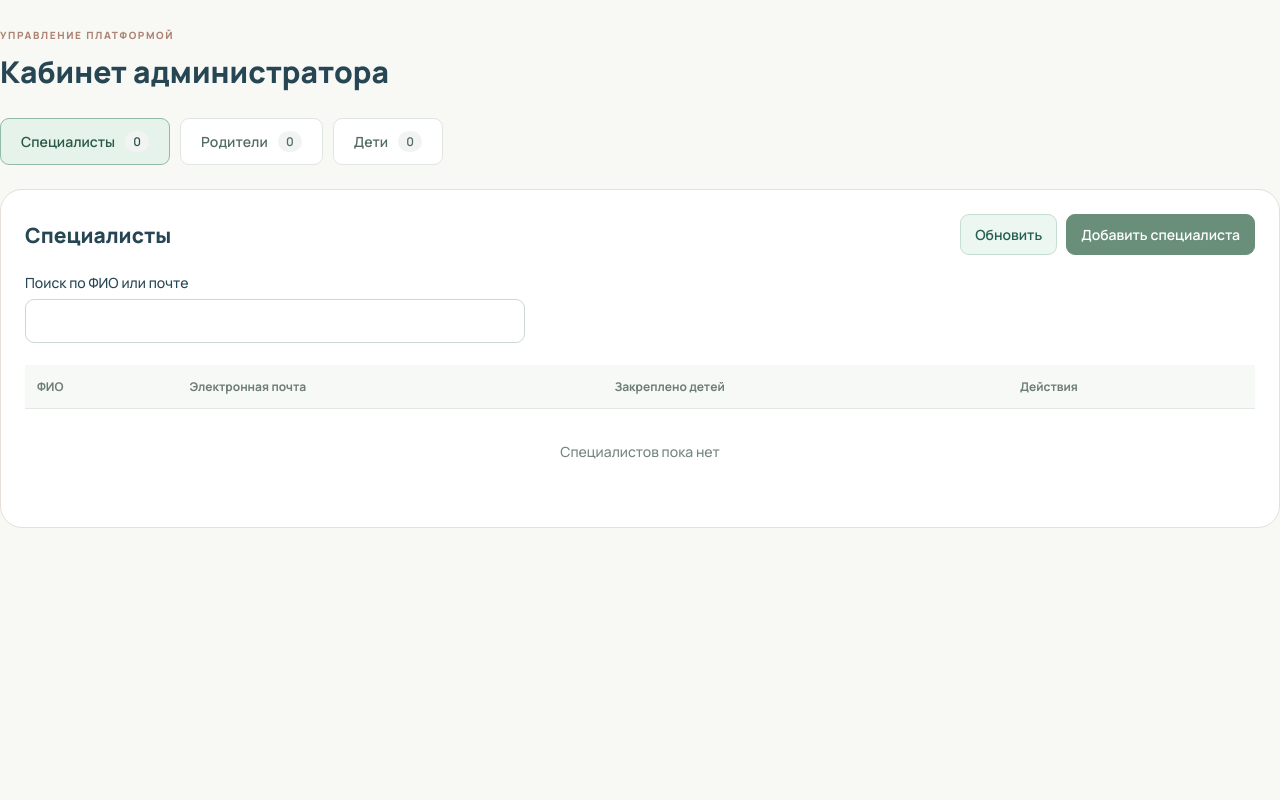
admin creates parent in a separate form
The width and height of the screenshot is (1280, 800).
expect the button "Обновить" is enabled: met, box [960,214,1057,255]
Click the button "Родители 0" at coordinates (251, 142), box [180,118,323,165]
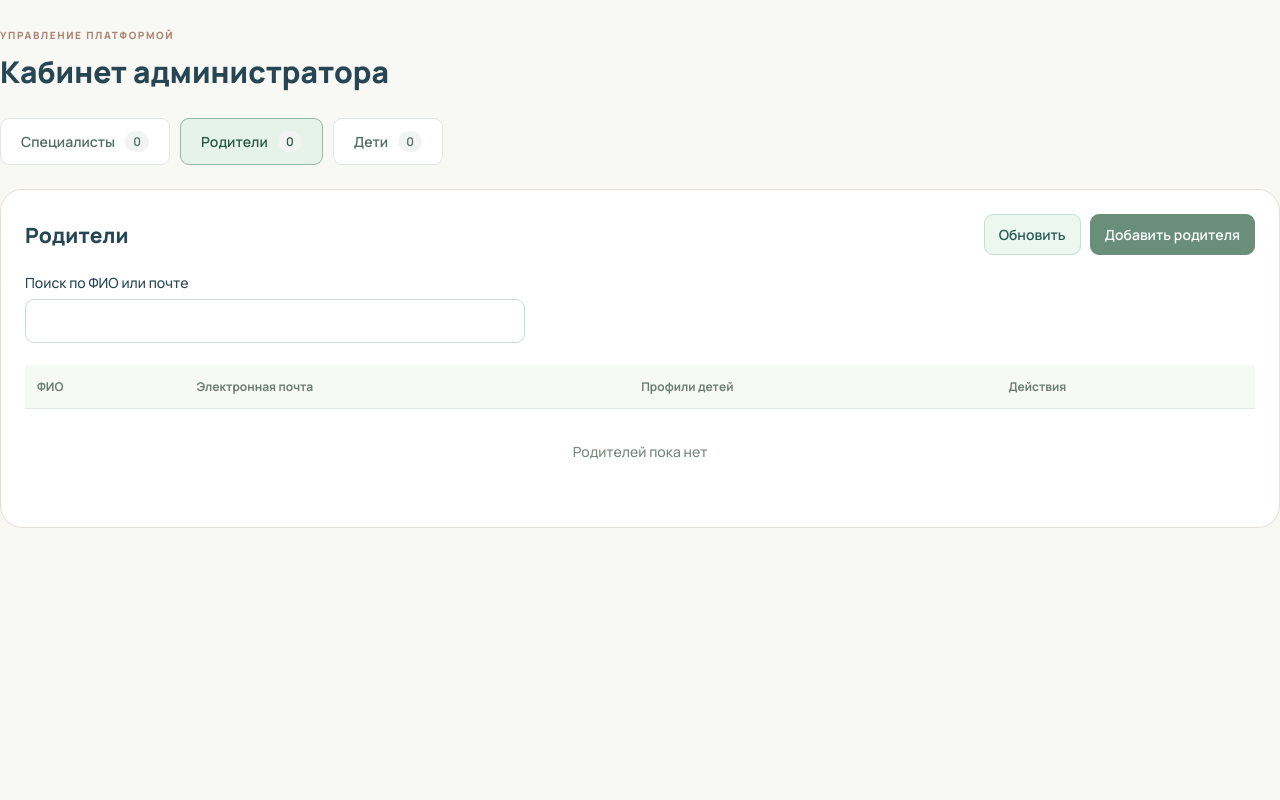
Click the button "Добавить родителя" at coordinates (1172, 234), box [1090,214,1255,255]
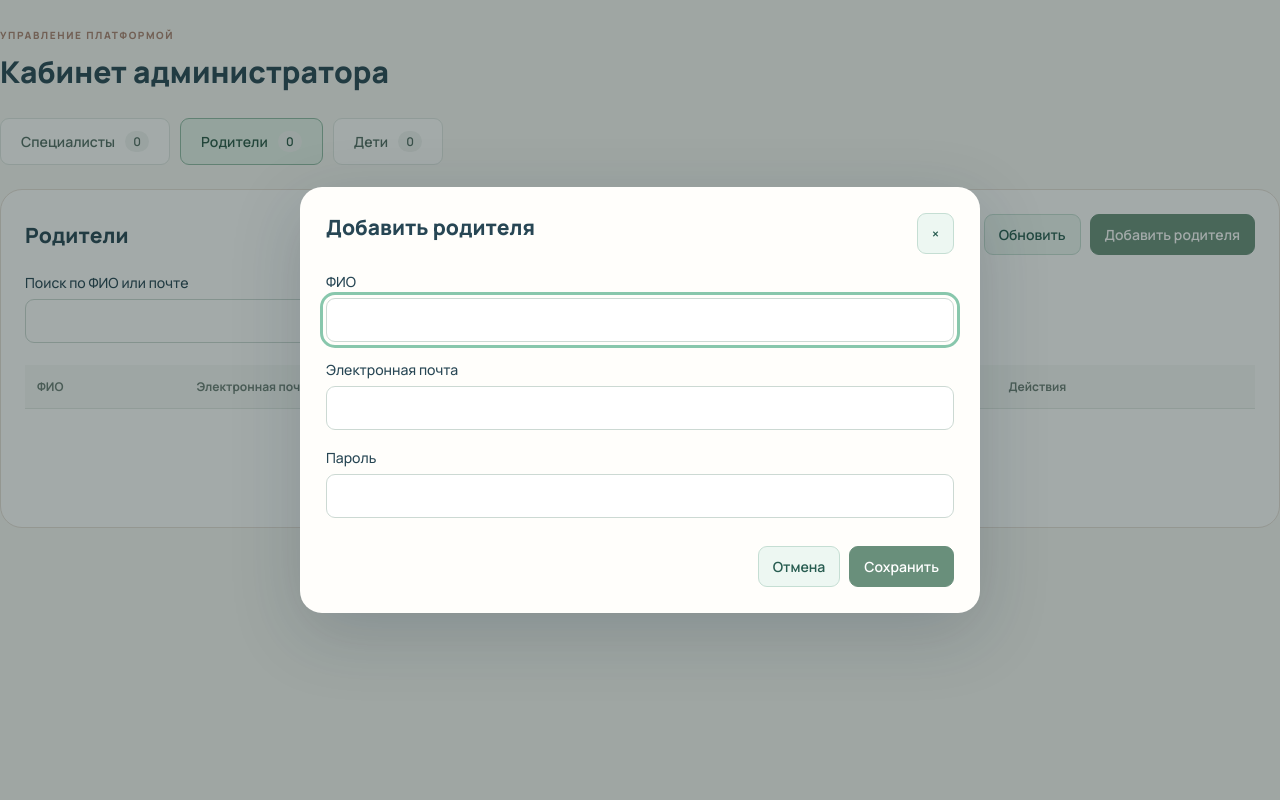
Type "Проверочный Пользователь" into the field labelled "ФИО" at coordinates (640, 320), box [326,298,954,342]
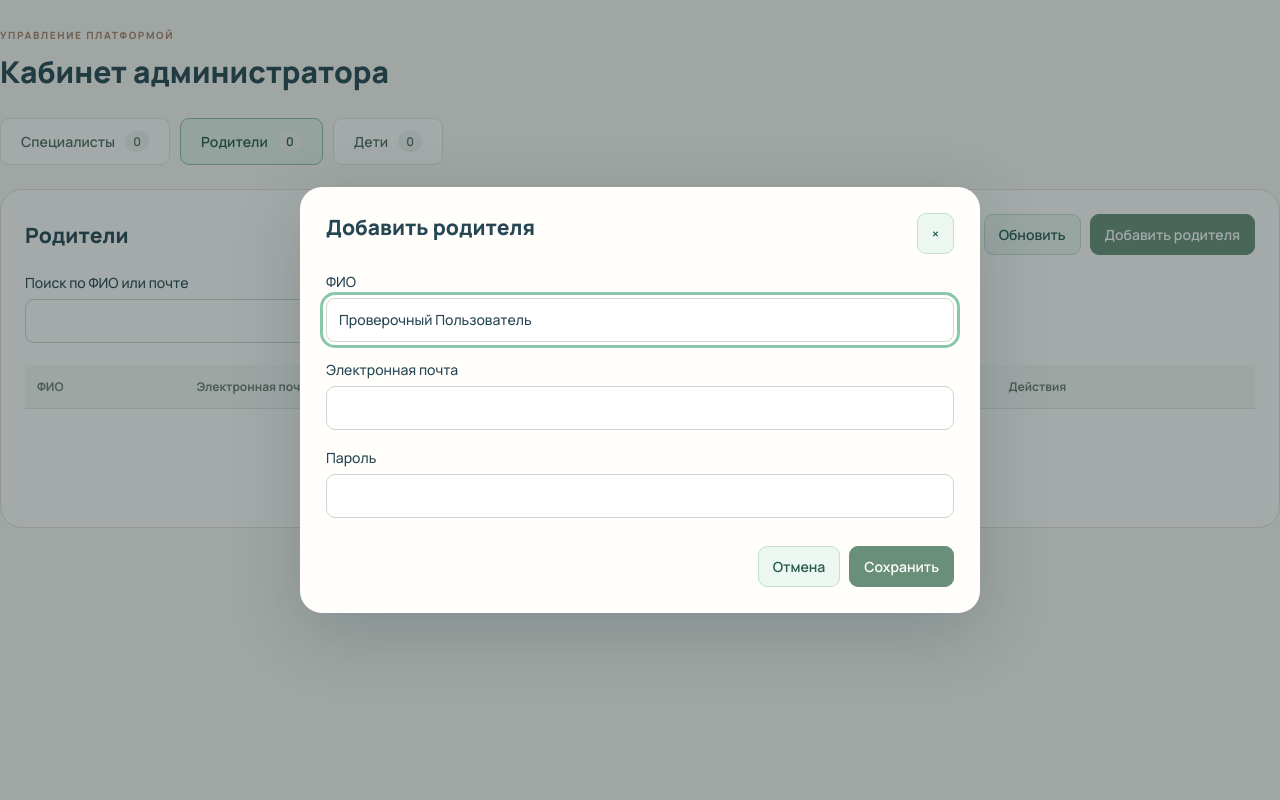
Type "new@test.invalid" into the field labelled "Электронная почта" at coordinates (640, 408), box [326,386,954,430]
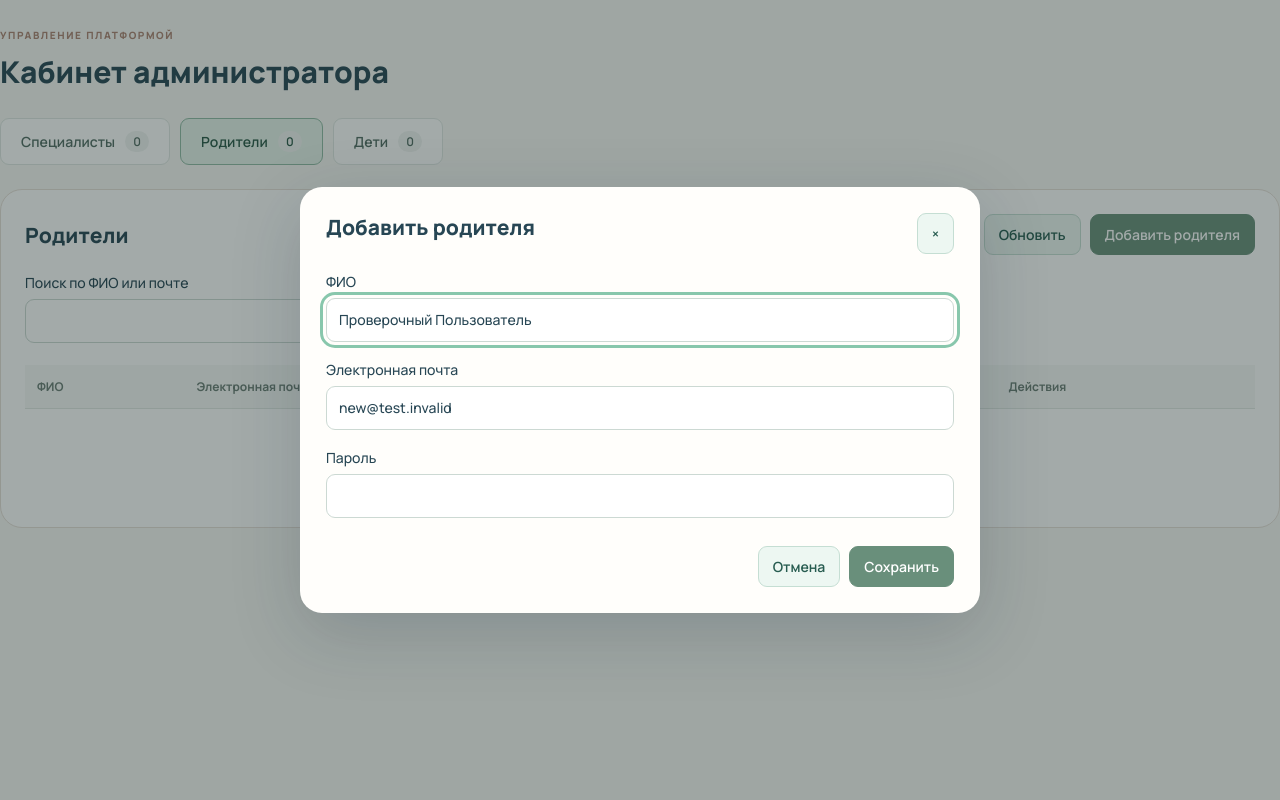
Type "password123" into the password field labelled "Пароль" at coordinates (640, 496), box [326,474,954,518]
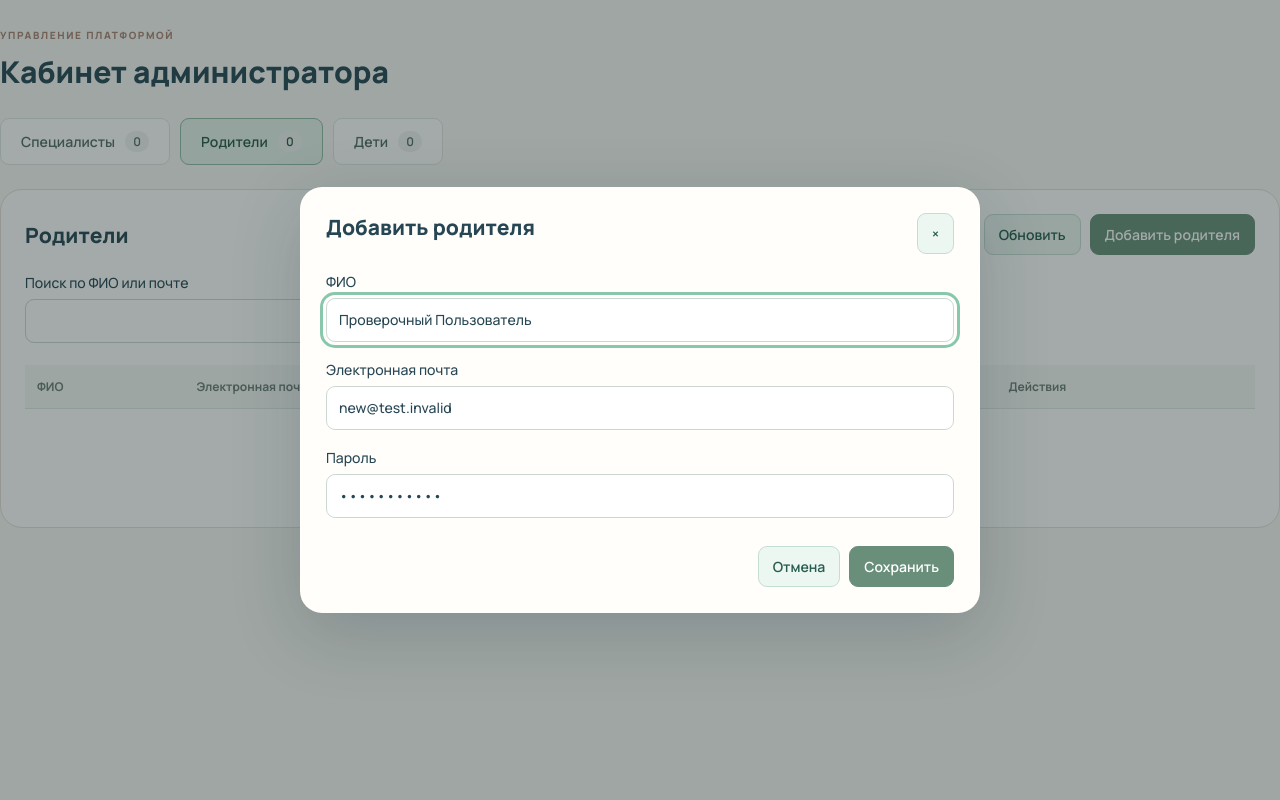
Click the button "Сохранить" at coordinates (902, 566), box [849,546,954,587]
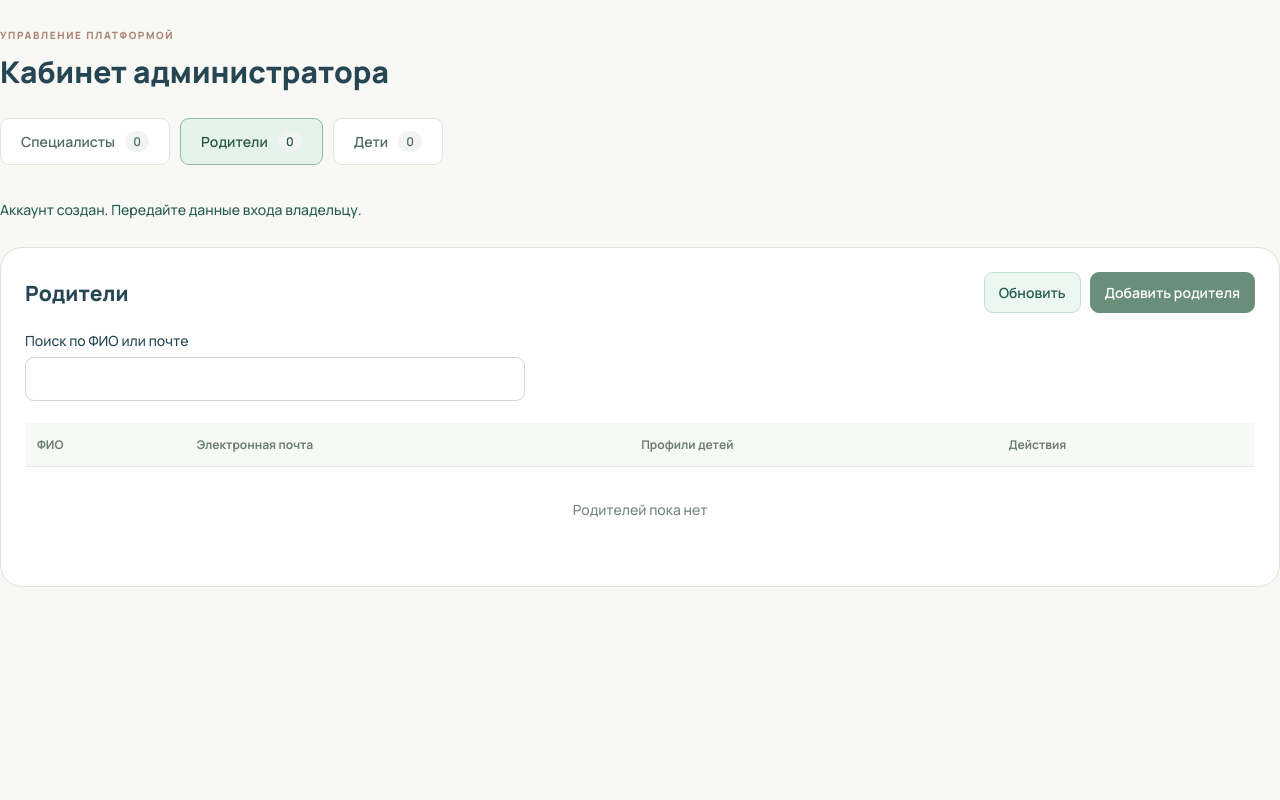
expect the dialog is gone: met
expect the label labelled "Пароль" is gone: met
